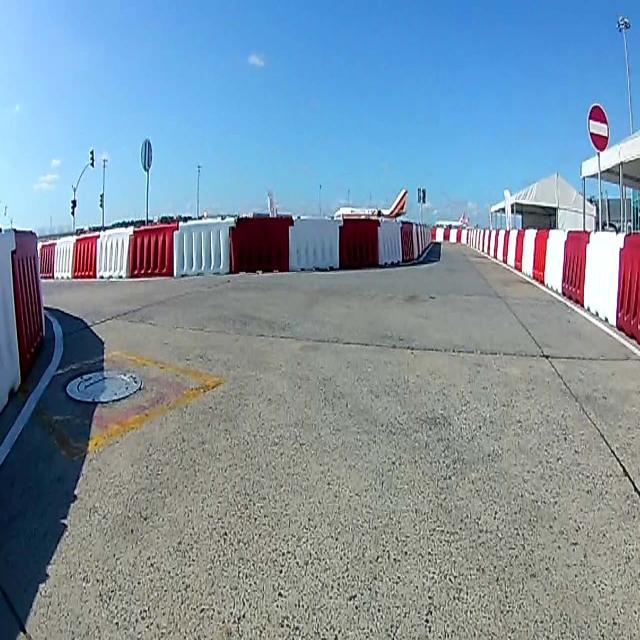girisyok: (588, 102, 610, 153)
